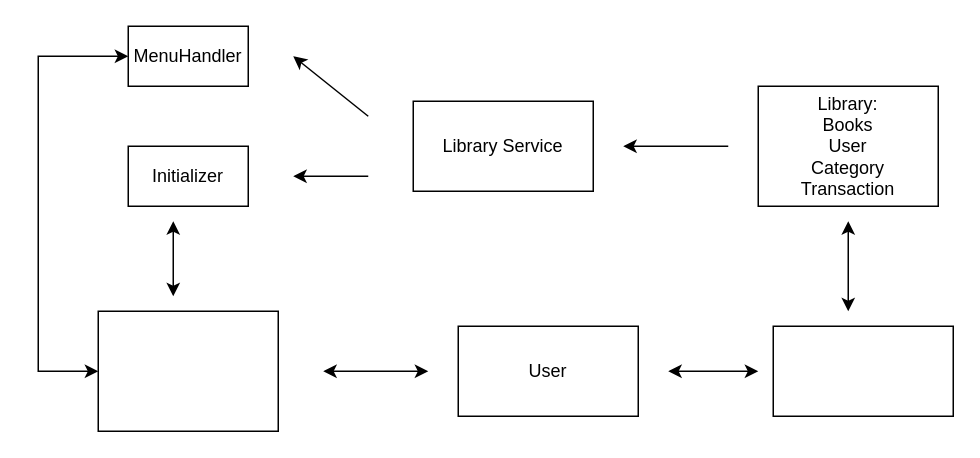
Some shapes in this 980 by 458 pixel diagram are drawn without their labels. Here are the shapes that lost their labels. From the top down, the centre of each, then its label:
At (187,370): "Main".
At (862,370): "Validation".
